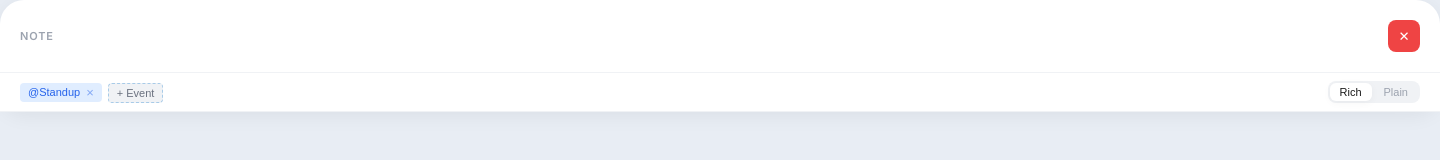
Scenario: NotesView — event chips › removes an event chip when × is clicked
Expected: the button "@Standup" is shown, [28, 86, 80, 98]
What coordinates should you click on to do the following:
click the button named "Remove event evt-1"
I would click on:
 (90, 92)
Its box is [86, 86, 94, 98].
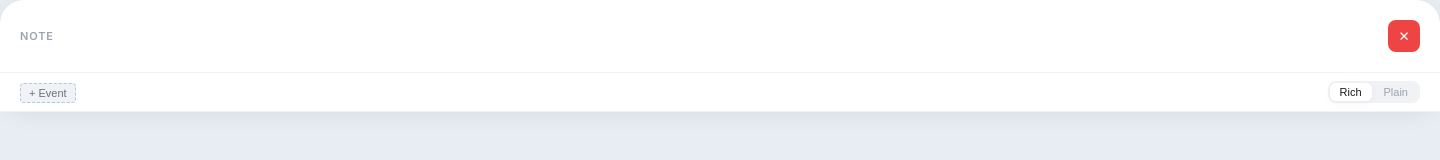
Expected: the button "@Standup" is gone
